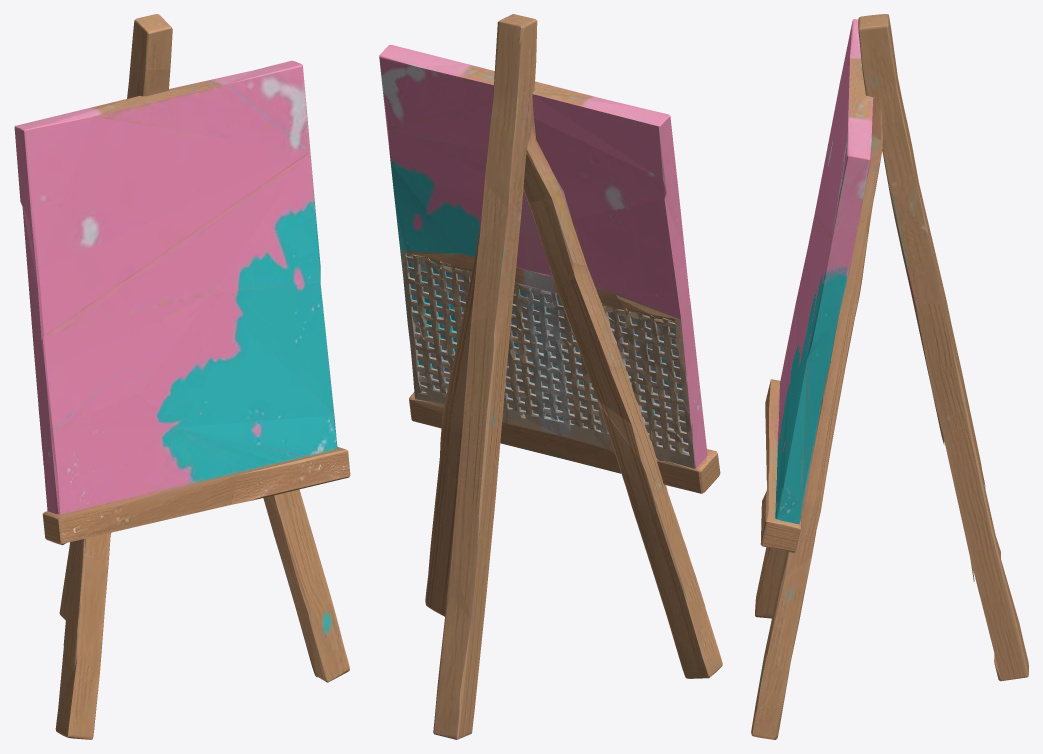
File: easel.glb
The picture shows the model from 3 angles, left to right: view 1: azimuth 30°, elevation 25°; view 2: azimuth 150°, elevation 25°; view 3: azimuth 270°, elevation 25°; orthographic projection. The views are drawn at different scales.
Size of the model in its own units: 0.883 by 1.9 by 0.726.
1 material, 1 textured.
